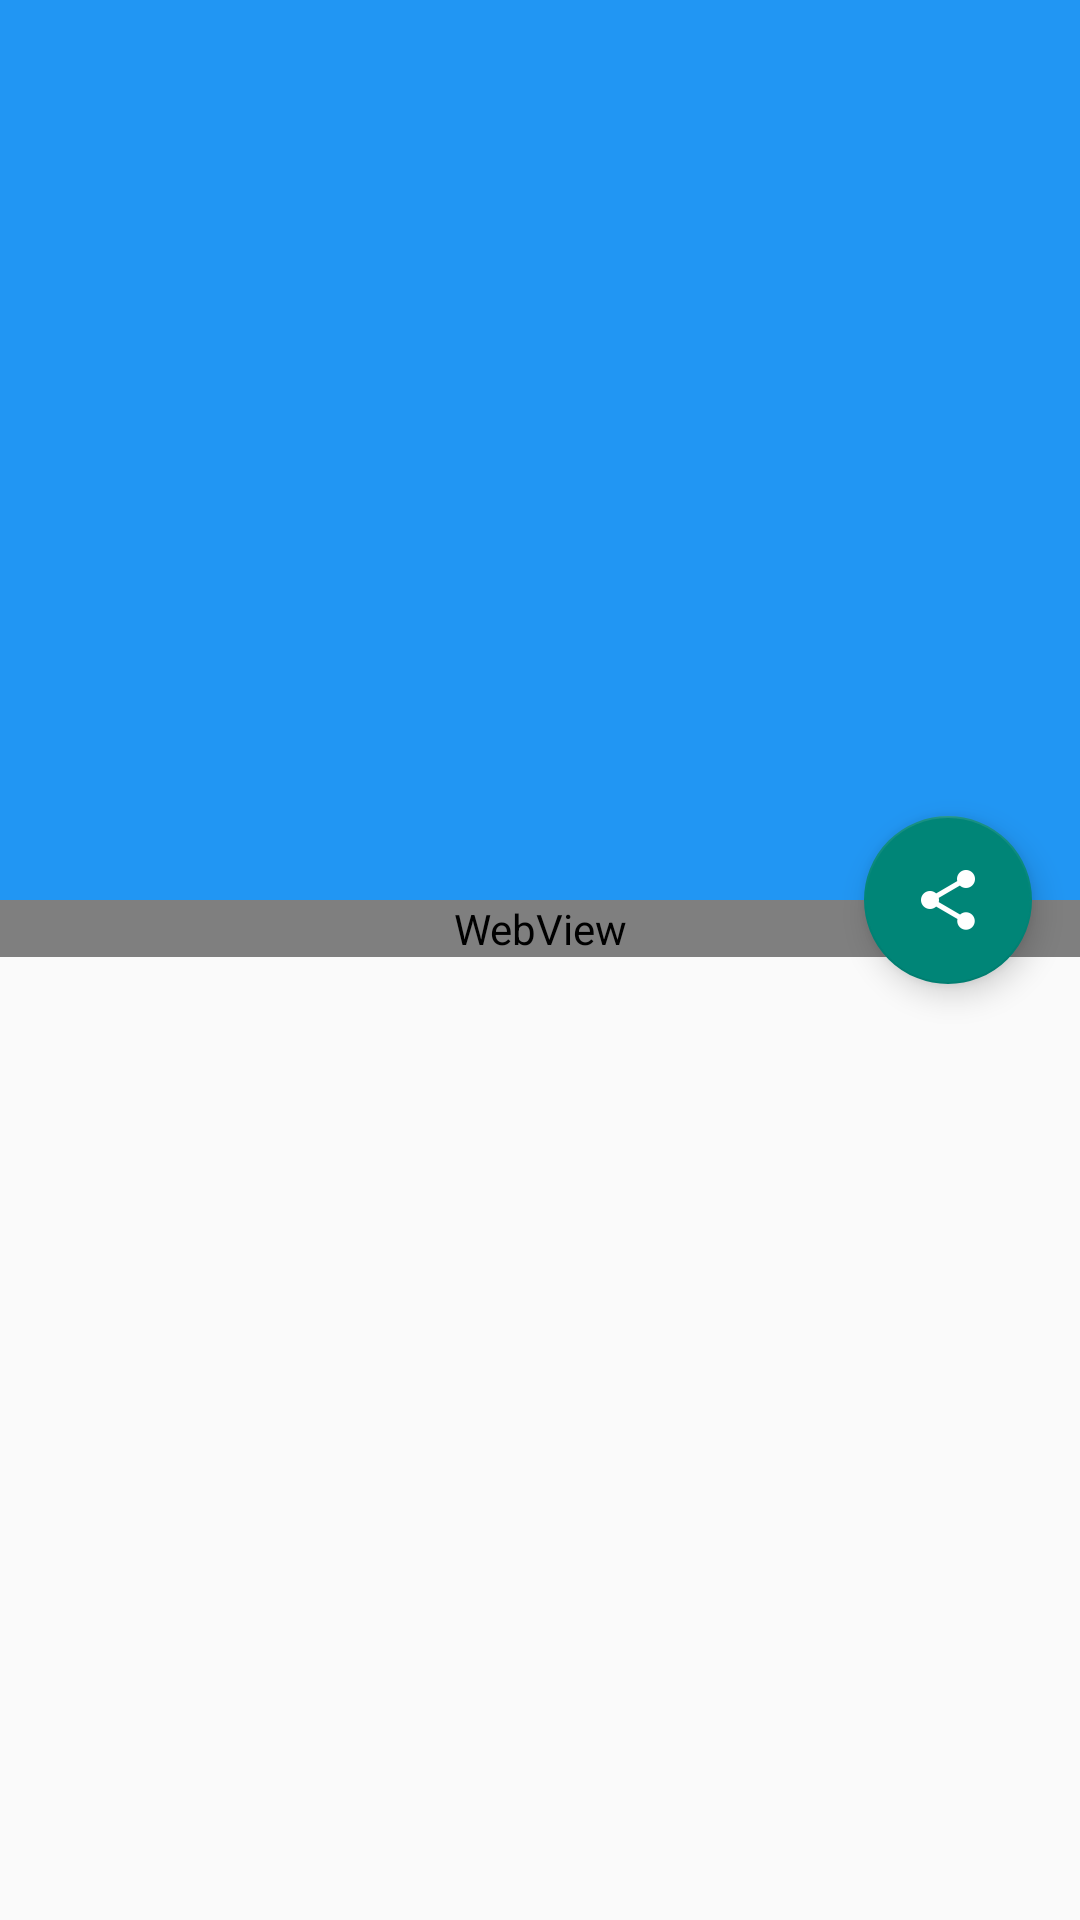

Icons on this 1080 x 1920 Android screen, each with the point to tap as point (x, y):
share: point (948, 900)
